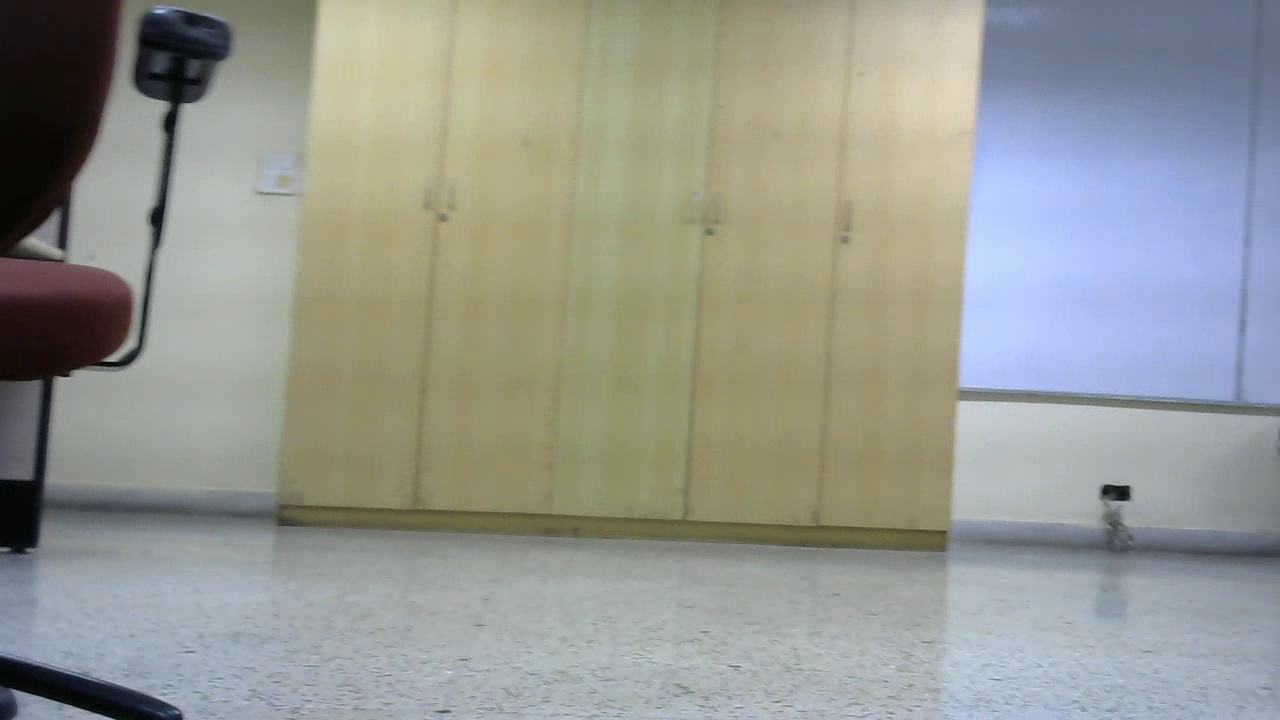chair: (701, 160, 1065, 618), (264, 136, 491, 548)
